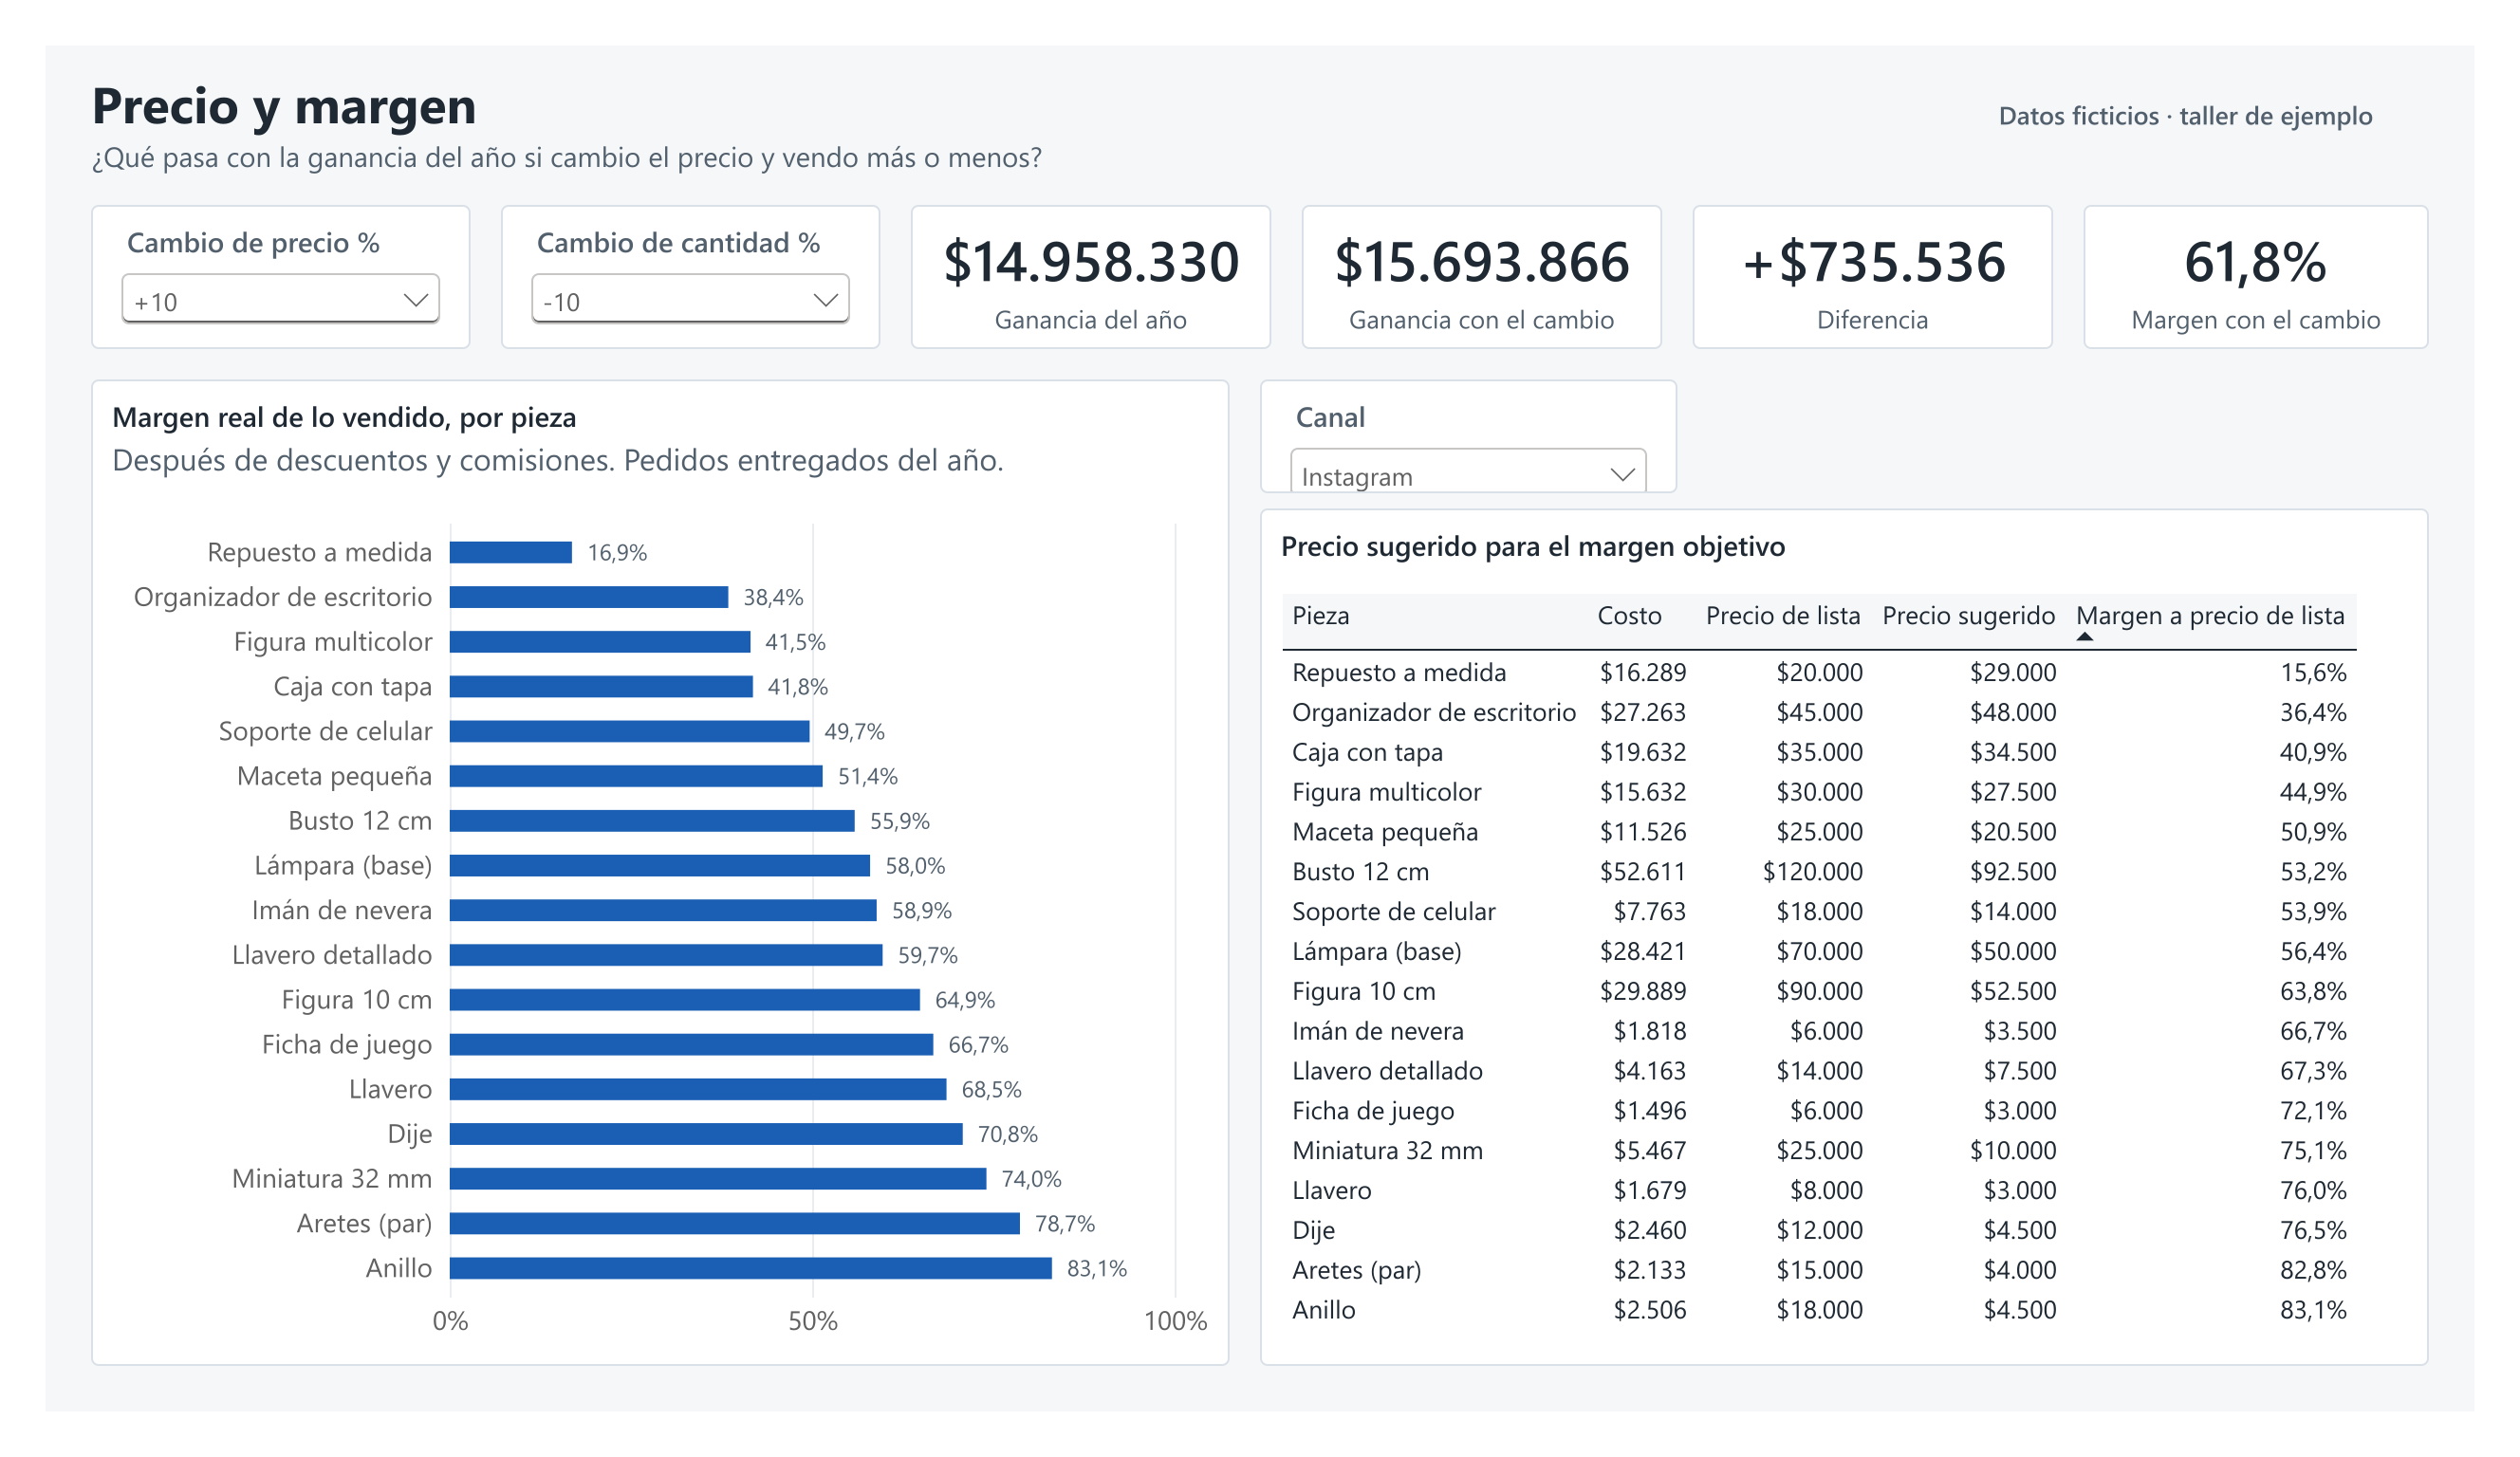

The page's visual inventory and layout, read from the dashboard file:
{"tool":"powerbi","page":{"name":"Precio y margen","canvas":[1280,720],"ordinal":1},"visuals":[{"type":"textbox","box":[24,12,900,64],"z":0},{"type":"card","fields":{"Values":["Medidas.Origen de los datos"]},"box":[1000,12,256,56],"z":1000},{"type":"slicer","fields":{"Values":["Ajuste de precio.Ajuste de precio %"]},"box":[24,84,200,76],"z":2000},{"type":"slicer","fields":{"Values":["Ajuste de cantidad.Ajuste de cantidad %"]},"box":[240,84,200,76],"z":3000},{"type":"card","fields":{"Values":["Medidas.Ganancia"]},"box":[456,84,190,76],"z":4000},{"type":"card","fields":{"Values":["Medidas.Ganancia con ajuste"]},"box":[662,84,190,76],"z":5000},{"type":"card","fields":{"Values":["Medidas.Cambio en la ganancia"]},"box":[868,84,190,76],"z":6000},{"type":"card","fields":{"Values":["Medidas.Margen con ajuste %"]},"box":[1074,84,182,76],"z":7000},{"type":"clusteredBarChart","title":"Margen real de lo vendido, por pieza","fields":{"Category":["Piezas.nombre"],"Y":["Medidas.Margen %"]},"box":[24,176,600,520],"z":8000},{"type":"slicer","fields":{"Values":["Canal para precio.Canal"]},"box":[640,176,220,60],"z":9000},{"type":"tableEx","title":"Precio sugerido para el margen objetivo","fields":{"Values":["Piezas.nombre","Medidas.Costo por unidad","Medidas.Precio de lista","Medidas.Precio sugerido","Medidas.Margen a precio de lista"]},"box":[640,244,616,452],"z":10000}]}

Visuals, with their boxes in screenshot pixels (x1, y1, x2, y2), scaled from the page's 1280x720 canvas onto the 2520x1457 screenshot:
textbox: 47,25,1819,154
card - Medidas.Origen de los datos: 1969,25,2473,138
slicer - Ajuste de precio.Ajuste de precio %: 47,170,441,323
slicer - Ajuste de cantidad.Ajuste de cantidad %: 472,170,866,323
card - Medidas.Ganancia: 898,170,1271,323
card - Medidas.Ganancia con ajuste: 1304,170,1677,323
card - Medidas.Cambio en la ganancia: 1709,170,2083,323
card - Medidas.Margen con ajuste %: 2115,170,2473,323
"Margen real de lo vendido, por pieza" clusteredBarChart: 47,356,1229,1409
slicer - Canal para precio.Canal: 1260,356,1694,477
"Precio sugerido para el margen objetivo" tableEx: 1260,494,2473,1409
